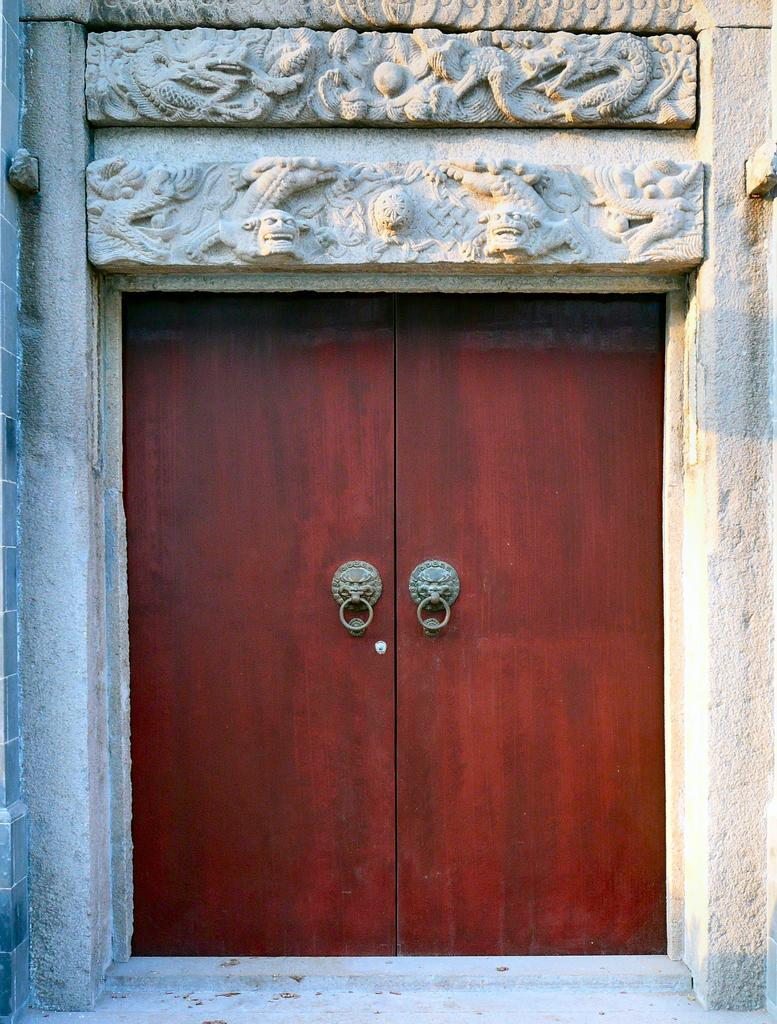door: (397, 327, 666, 946), (129, 323, 395, 946)
handle: (332, 580, 379, 647), (417, 593, 456, 650)
